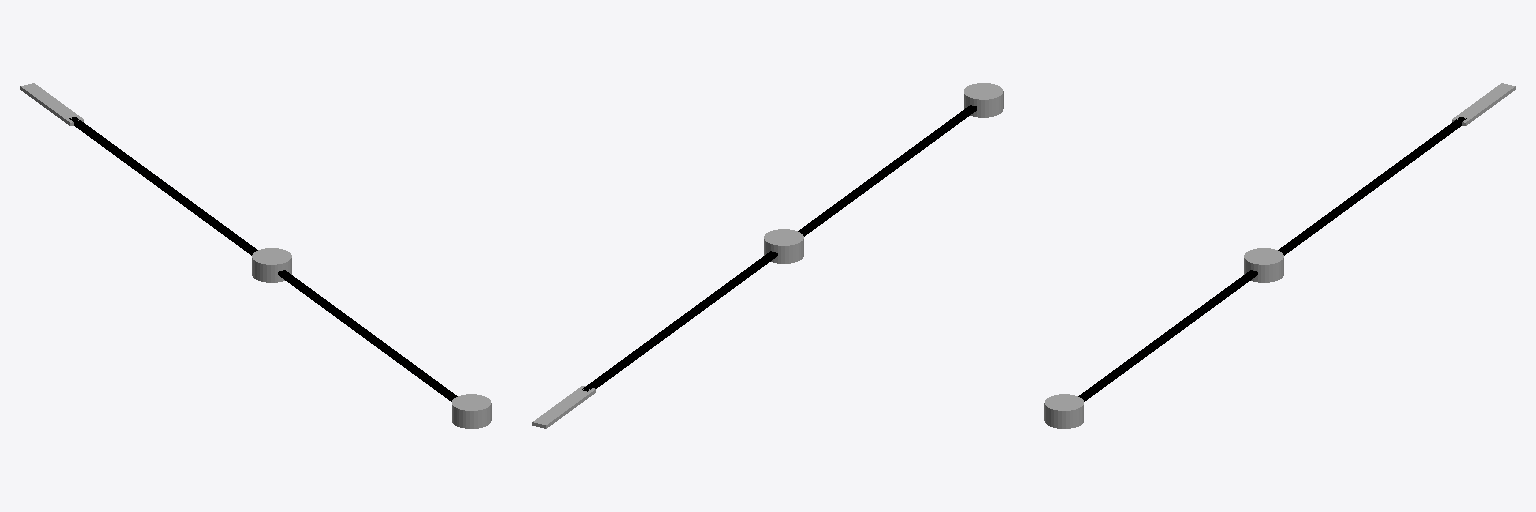
URDF robot description (Newlife):
<robot name="Newlife">
<link name="base_footprint"/>
<link name="Disc1">
  <visual>
    <geometry>
      <cylinder radius="0.05" length="0.05"/>
    </geometry>
    <material name="LightGrey">
      <color rgba="0.7 0.7 0.7 1.0"/>
    </material>
  </visual>
</link>
<link name="Disc2">
  <visual>
    <geometry>
      <cylinder radius="0.05" length="0.05"/>
    </geometry>
    <material name="LightGrey">
      <color rgba="0.7 0.7 0.7 1.0"/>
    </material>
  </visual>
</link>
<link name="Rod1">
  <visual>
    <geometry> 
      <box size="0.02 1.0 0.01" />
    </geometry>
    <material name="a">
      <color rgba="0.0 0.0 0.0 1.0"/>
    </material>
     <inertial>
    <mass value="1.0"/>
    <origin xyz="0.0 0.0 0.0" rpy="0.0 0.0 0.0"/>
    <inertia ixx="0.0" ixy="0.0" ixz="0.0" iyy="0.0" iyz="0.0" izz="2.0"/>
    </inertial>
  </visual>
</link>
<link name="Rod2">
  <visual>
    <geometry> 
      <box size="0.02 1.0 0.01" />
    </geometry>
    <material name="a">
      <color rgba="0.0 0.0 0.0 1.0"/>
    </material>
     <inertial>
    <mass value="1.0"/>
    <origin xyz="0.0 0.0 0.0" rpy="0.0 0.0 0.0"/>
    <inertia ixx="0.0" ixy="0.0" ixz="0.0" iyy="0.0" iyz="0.0" izz="2.0"/>
    </inertial>
  </visual>
</link>
<link name="plate">
  <visual>
    <geometry> 
      <box size="0.04 0.25 0.01" />
    </geometry>
    <material name="LightGrey">
      <color rgba="0.7 0.7 0.7 1.0"/>
    </material>
  </visual>
</link>
<joint name="joint1" type="continuous">
  <parent link="base_footprint"/>
  <child link="Disc1"/>
  <origin xyz="0.0 0.0 0.0" rpy="0.0 0.0 0.0"/>
  <axis xyz="0.0 0.0 1.0"/>
</joint>
<joint name="joint2" type="fixed">
  <parent link="Disc1"/>
  <child link="Rod1"/>
  <axis xyz="0 0.0 0"/>
  <origin xyz="0 0.5 0" rpy="0 0 0"/>
</joint>
<joint name="joint3" type="continuous">
  <parent link="Rod1"/>
  <child link="Disc2"/>
  <origin xyz="0.0 0.5 0.0" rpy="0.0 0.0 0.0"/>
  <axis xyz="0.0 0.0 1.0"/>
  
</joint>
<joint name="joint4" type="fixed">
  <parent link="Disc2"/>
  <child link="Rod2"/>
  <origin xyz="0.0 0.5 0.0" rpy="0.0 0.0 0.0"/>
</joint>
<joint name="joint5" type="fixed">
  <parent link="Rod2"/>
  <child link="plate"/>
  <origin xyz="0.0 0.6 0.0" rpy="0.0 0.0 0.0"/>
</joint>

</robot>

--- Render facts (derived) ---
The picture shows the robot from 3 angles, left to right: view 1: azimuth 30°, elevation 25°; view 2: azimuth 150°, elevation 25°; view 3: azimuth 330°, elevation 25°; orthographic projection.
Robot: Newlife — 6 links, 5 joints (2 continuous, 3 fixed); root link base_footprint; default pose: every joint at zero.
Visible links, largest first — view 1: Rod2, Rod1, Disc1, Disc2, plate; view 2: Rod2, Rod1, Disc2, Disc1, plate; view 3: Rod2, Rod1, Disc1, Disc2, plate.
Boxes of the visible links, x1,y1,x2,y2 form: Rod2: (69,117,257,255); Rod1: (278,270,457,401); Disc1: (452,394,491,428); Disc2: (252,248,291,282); plate: (20,83,83,125); Rod2: (582,251,777,391); Rod1: (798,105,976,236); Disc2: (764,229,803,263); Disc1: (964,83,1003,117); plate: (532,386,595,428); Rod2: (1278,117,1466,255); Rod1: (1078,270,1257,401); Disc1: (1044,394,1083,428); Disc2: (1244,248,1283,282); plate: (1452,83,1515,125).
Bounding box of the posed robot: 0.1 × 2.27 × 0.05 m (x, y, z).
Geometry: primitives only (box / cylinder / sphere), no mesh files.
